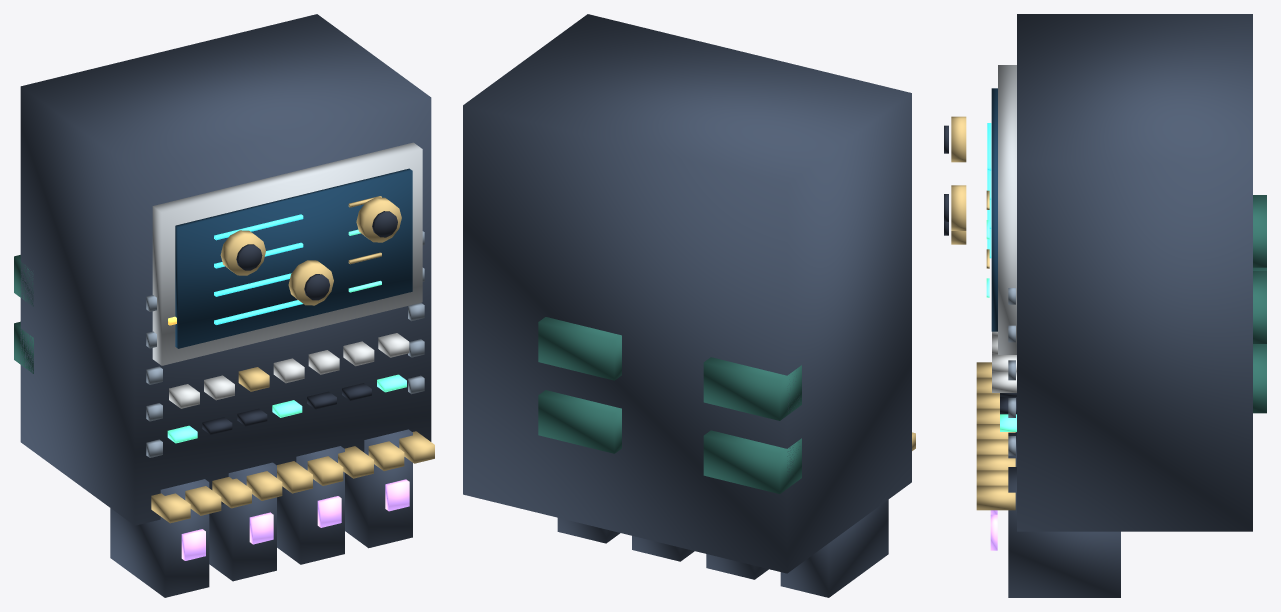
The model's file is 53_L91_EventProcessorB.glb.
The picture shows the model from 3 angles, left to right: view 1: azimuth 30°, elevation 25°; view 2: azimuth 150°, elevation 25°; view 3: azimuth 270°, elevation 25°; orthographic projection. The views are drawn at different scales.
Parts seen in each view (by area): view 1: L91_EventProcessorB, L91_EventProcessorB_Part_0012, L91_EventProcessorB_Part_0013, L91_EventProcessorB_Part_0017, L91_EventProcessorB_Part_0015; view 2: L91_EventProcessorB; view 3: L91_EventProcessorB, L91_EventProcessorB_Part_0013, L91_EventProcessorB_Part_0017.
Boxes of the visible parts, box(x1,y1,x2,y2) form: L91_EventProcessorB: box(14, 14, 434, 597); L91_EventProcessorB_Part_0012: box(181, 479, 409, 560); L91_EventProcessorB_Part_0013: box(220, 230, 265, 275); L91_EventProcessorB_Part_0017: box(356, 197, 401, 242); L91_EventProcessorB_Part_0015: box(288, 260, 333, 305); L91_EventProcessorB: box(463, 14, 915, 597); L91_EventProcessorB: box(976, 14, 1266, 597); L91_EventProcessorB_Part_0013: box(951, 116, 966, 162); L91_EventProcessorB_Part_0017: box(951, 185, 966, 230).
Size of the model in its own units: 1 by 1.4 by 0.9163.
